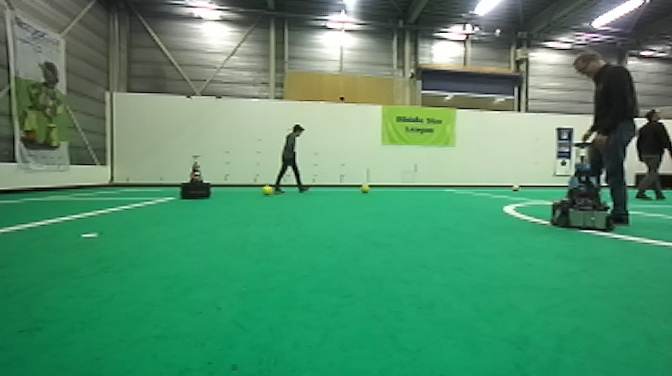ball: (357, 181, 372, 195), (261, 183, 275, 197), (509, 181, 521, 194)
human: (572, 49, 638, 227), (633, 107, 672, 201), (272, 121, 308, 195)
robot: (549, 139, 616, 232), (177, 153, 215, 201)
